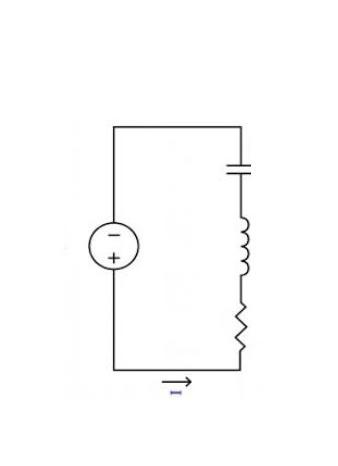resistor: (221, 291, 255, 359)
